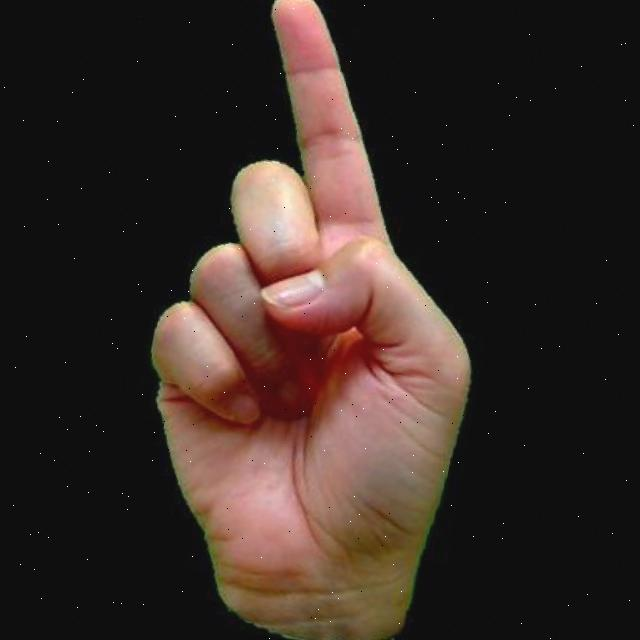z: (98, 0, 538, 640)
